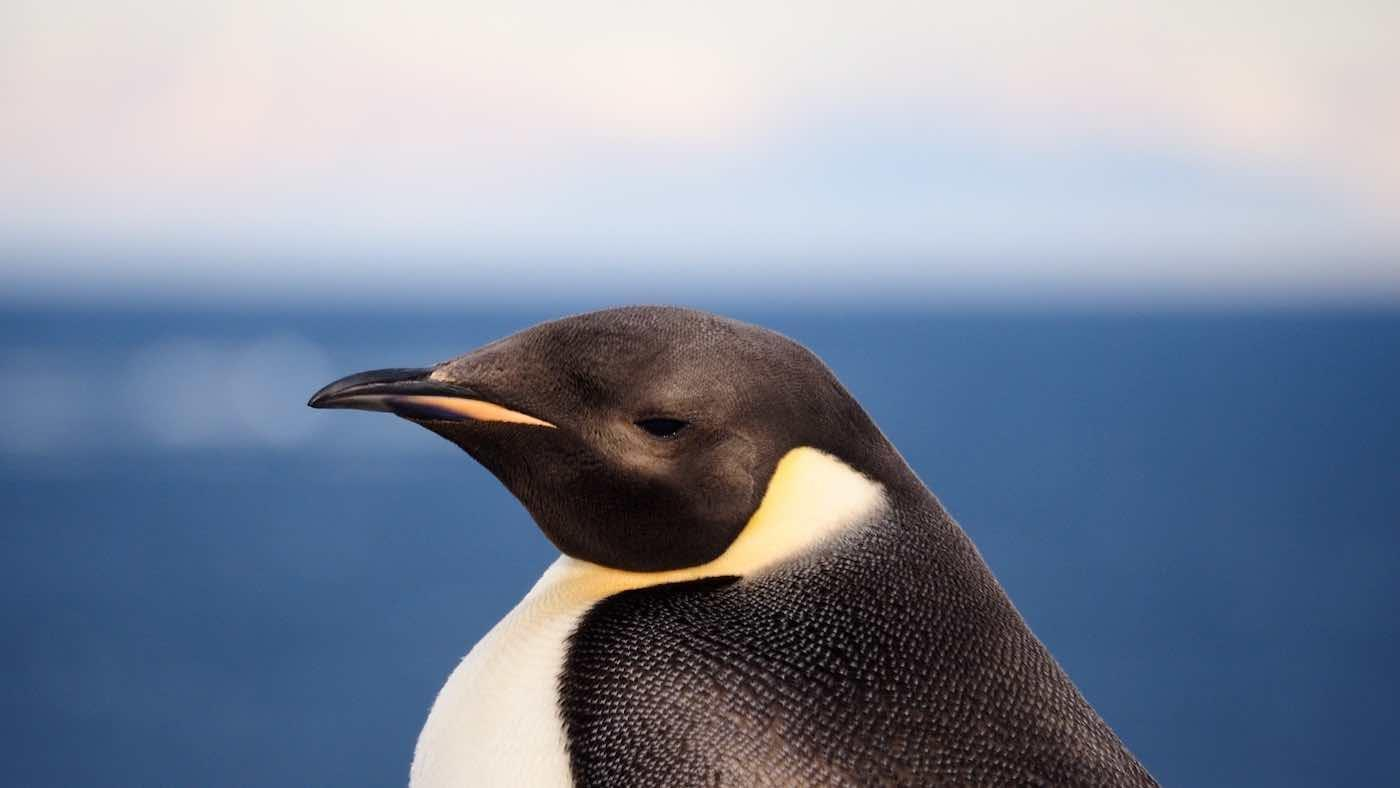Penguin: (309, 306, 1153, 784)
